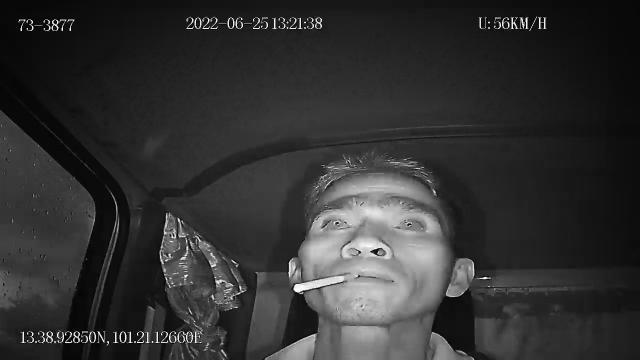SafeDriving: (312, 209, 354, 238), (388, 211, 432, 237)
Smoking: (294, 273, 358, 293)
